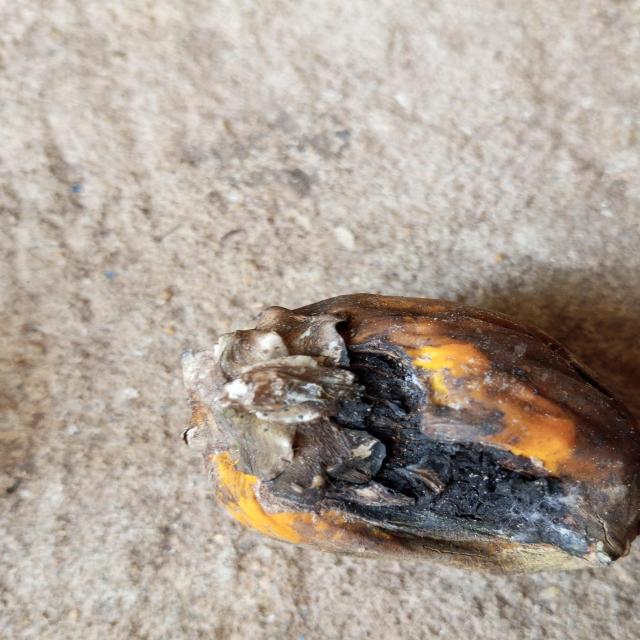damaged: (181, 294, 639, 573)
